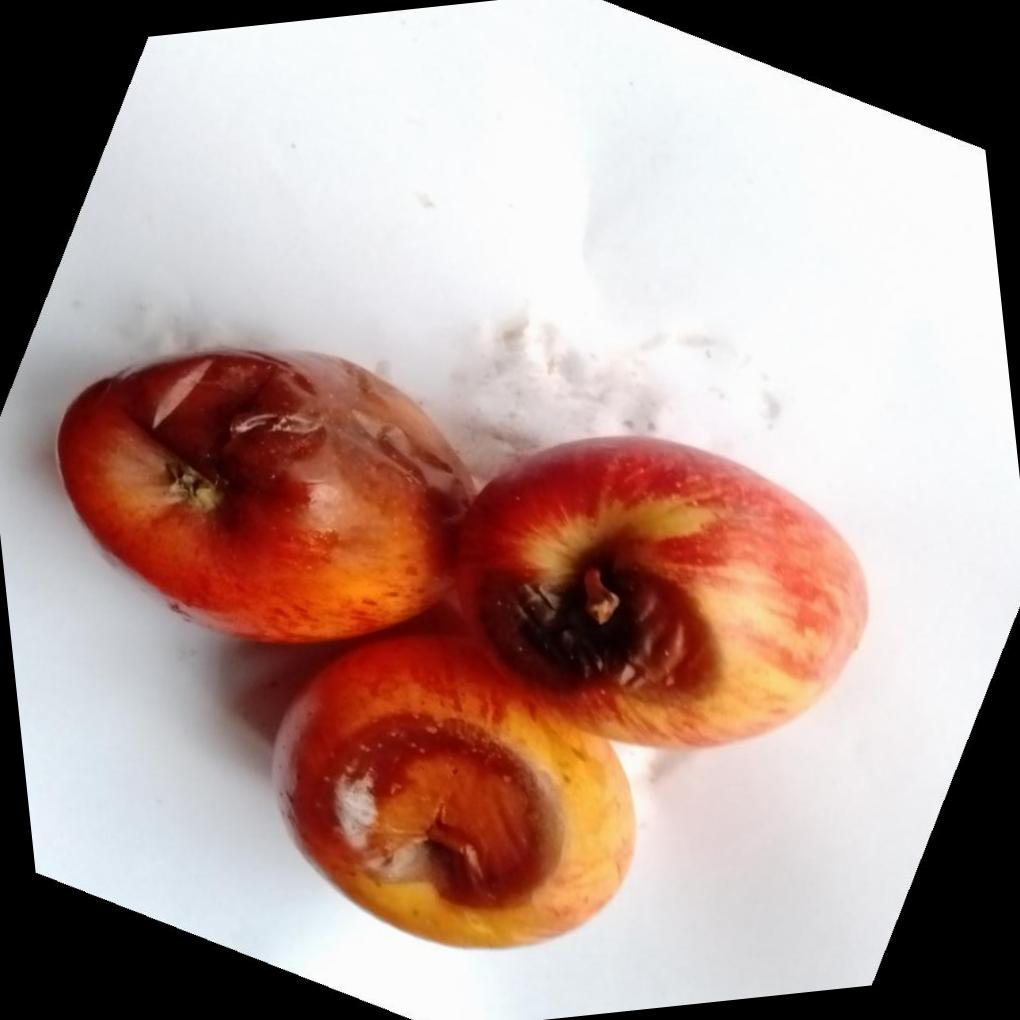FreshOrange: (79, 381, 871, 857)
